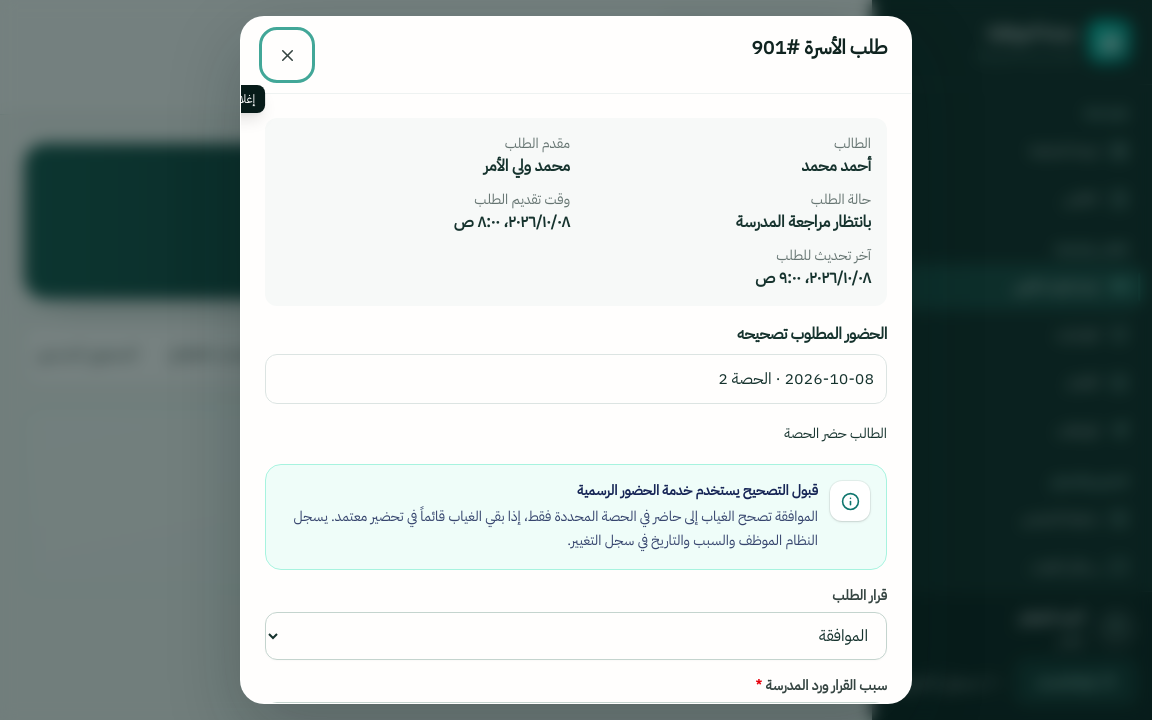
it: school family request decision context and dashboard deep links › submits the fresh attendance revision once and invalidates the daily queue
Select "الرفض" in the dropdown labelled "قرار الطلب" at {"x": 576, "y": 636}, box left=265, top=612, right=887, bottom=660
(page scrolled)
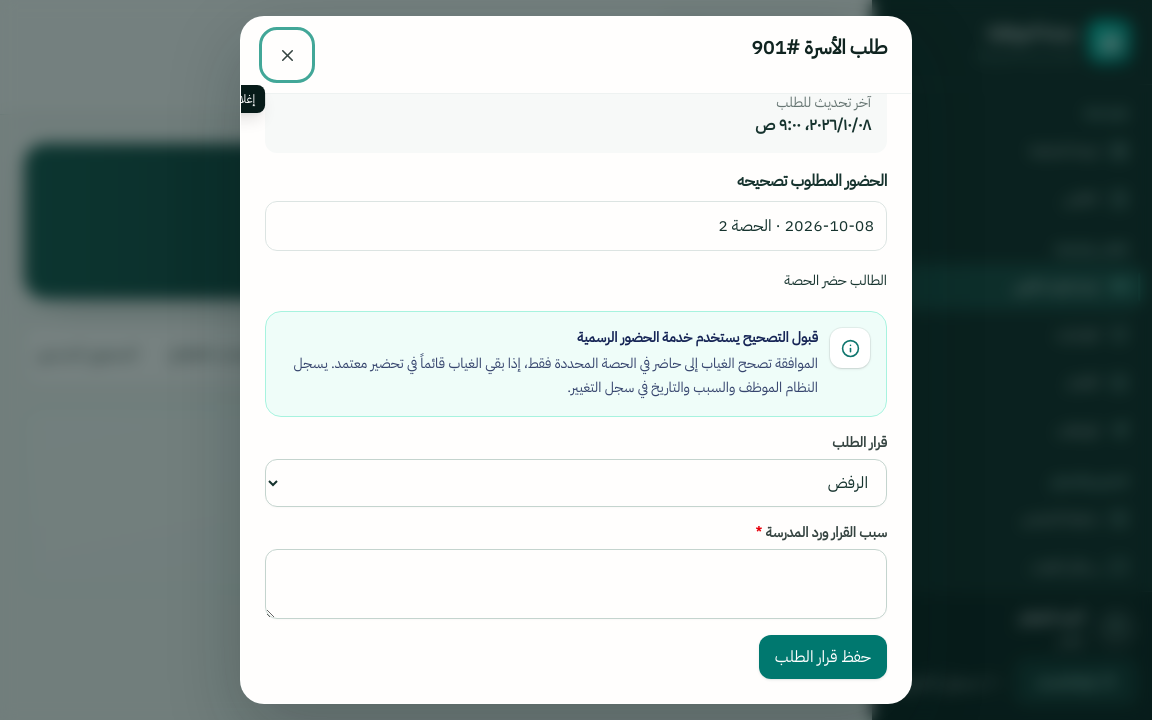
Type "القرار بعد التحقق" into the text box labelled "سبب القرار ورد المدرسة" at {"x": 576, "y": 584}, box left=265, top=549, right=887, bottom=619
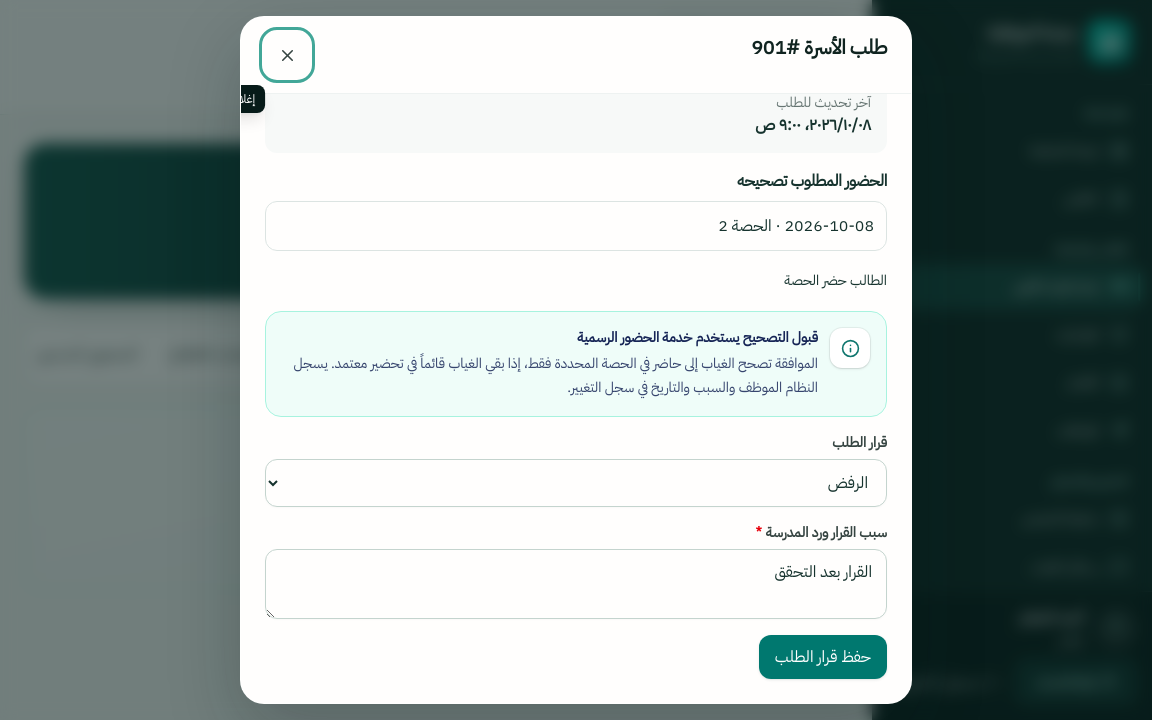
Click the button "حفظ قرار الطلب" at {"x": 823, "y": 657}, box left=759, top=635, right=887, bottom=679
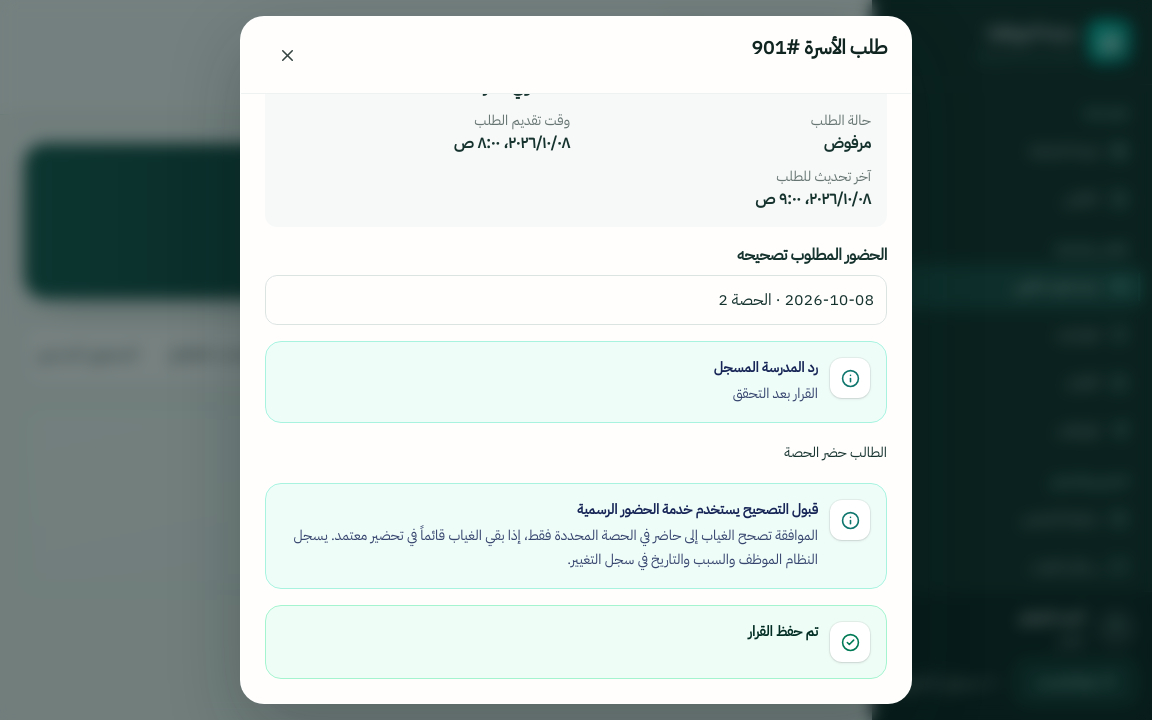
Check: the button "حفظ قرار الطلب" is gone
